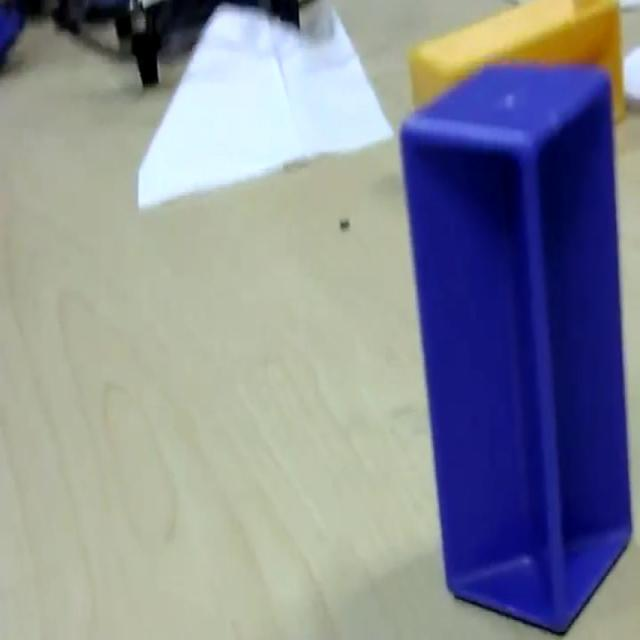blue_block: (397, 60, 633, 632)
yellow_block: (407, 0, 626, 121)
